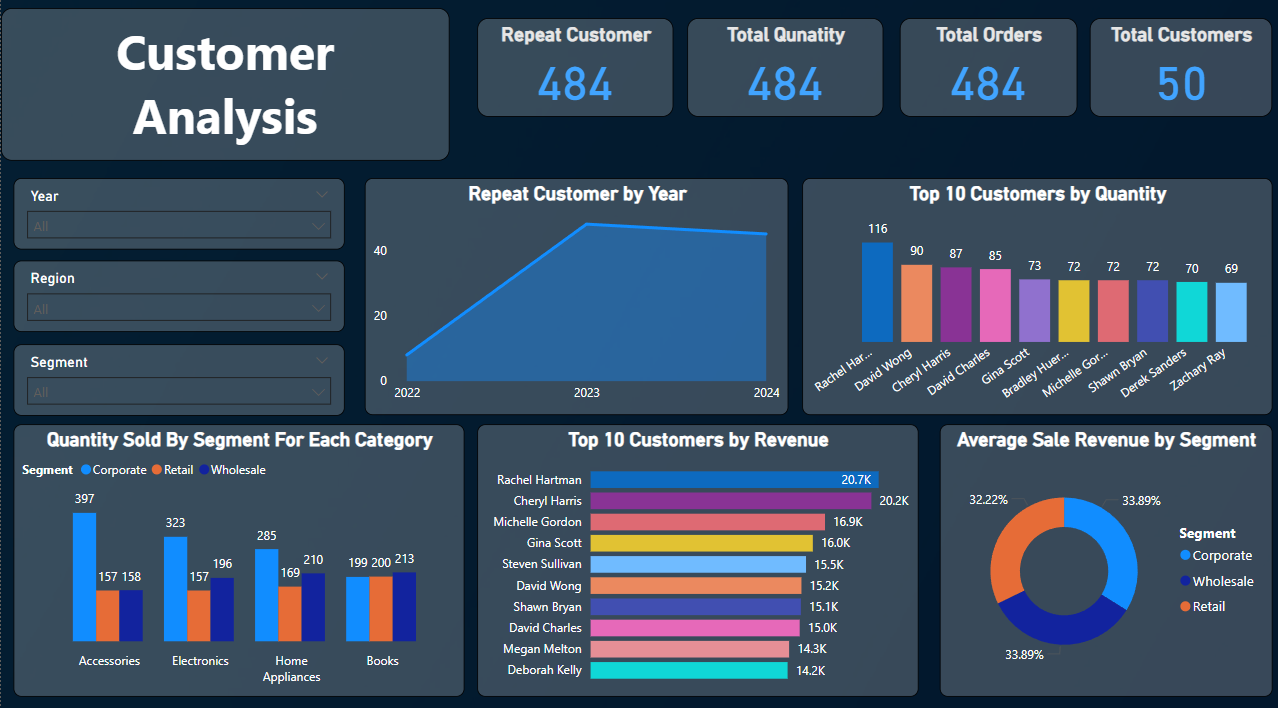

The page's visual inventory and layout, read from the dashboard file:
{"tool":"powerbi","page":{"name":"Customer Analysis","canvas":[1280,720],"ordinal":0},"visuals":[{"type":"clusteredBarChart","title":"Top 10 Customers by Revenue","fields":{"Category":["Sales data.Name"],"Y":["Sales data.Sales_Large.Revenue"]},"box":[473.9,429.2,439.1,271.2],"z":0},{"type":"donutChart","title":"Average Sale Revenue by Segment","fields":{"Category":["Sales data.Segment"],"Y":["Sales data.Sales_Large.Revenue"]},"box":[934.2,429.2,330.9,271.2],"z":1000},{"type":"card","title":"Total Qunatity","fields":{"Values":["Sales data.Orders_Large.Quantity"]},"box":[682.9,24.9,195.3,98.3],"z":2000},{"type":"card","title":"Total Customers","fields":{"Values":["Sales data.CustomerID"]},"box":[1083.5,24.9,181.6,98.3],"z":3000},{"type":"clusteredColumnChart","title":"Top 10 Customers by Quantity","fields":{"Category":["Sales data.Name"],"Y":["Sales data.Orders_Large.Quantity"]},"box":[797.4,184.1,467.7,236.4],"z":4000},{"type":"card","title":"Total Orders","fields":{"Values":["Sales data.Orders_Large.TransactionID"]},"box":[894.4,24.9,176.6,98.3],"z":5000},{"type":"textbox","box":[0,14.9,446.6,151.8],"z":6000},{"type":"stackedAreaChart","fields":{"Category":["Sales data.Orders_Large.OrderDate.Variation.Date Hierarchy.Year"],"Y":["Sales data.Repeat Customers"]},"box":[362,184.1,421.7,236.4],"z":7000},{"type":"slicer","fields":{"Values":["Sales data.Segment"]},"box":[12.4,349.6,329.6,70.9],"z":8000},{"type":"card","title":"Repeat Customer","fields":{"Values":["Sales data.Repeat Customers"]},"box":[473.9,24.9,195.3,98.3],"z":9000},{"type":"clusteredColumnChart","title":"Quantity Sold By Segment For Each Category","fields":{"Category":["Sales data.Products_Large.Category"],"Y":["Sales data.Orders_Large.Quantity"],"Series":["Sales data.Segment"]},"box":[12.4,429.2,449.1,271.2],"z":10000},{"type":"slicer","fields":{"Values":["Sales data.Region"]},"box":[12.4,266.2,329.6,70.9],"z":11000},{"type":"slicer","fields":{"Values":["Sales data.Orders_Large.OrderDate.Variation.Date Hierarchy.Year"]},"box":[12.4,184.1,329.6,70.9],"z":12000}]}

Visuals, with their boxes in screenshot pixels (x1, y1, x2, y2), scaled from the page's 1280x720 canvas onto the 1278x708 screenshot:
"Top 10 Customers by Revenue" clusteredBarChart: (473, 422, 912, 689)
"Average Sale Revenue by Segment" donutChart: (933, 422, 1263, 689)
"Total Qunatity" card: (682, 24, 877, 121)
"Total Customers" card: (1082, 24, 1263, 121)
"Top 10 Customers by Quantity" clusteredColumnChart: (796, 181, 1263, 413)
"Total Orders" card: (893, 24, 1069, 121)
textbox: (0, 15, 446, 164)
stackedAreaChart - Sales data.Orders_Large.OrderDate.Variation.Date Hierarchy.Year x Sales data.Repeat Customers: (361, 181, 782, 413)
slicer - Sales data.Segment: (12, 344, 341, 413)
"Repeat Customer" card: (473, 24, 668, 121)
"Quantity Sold By Segment For Each Category" clusteredColumnChart: (12, 422, 461, 689)
slicer - Sales data.Region: (12, 262, 341, 331)
slicer - Sales data.Orders_Large.OrderDate.Variation.Date Hierarchy.Year: (12, 181, 341, 251)
